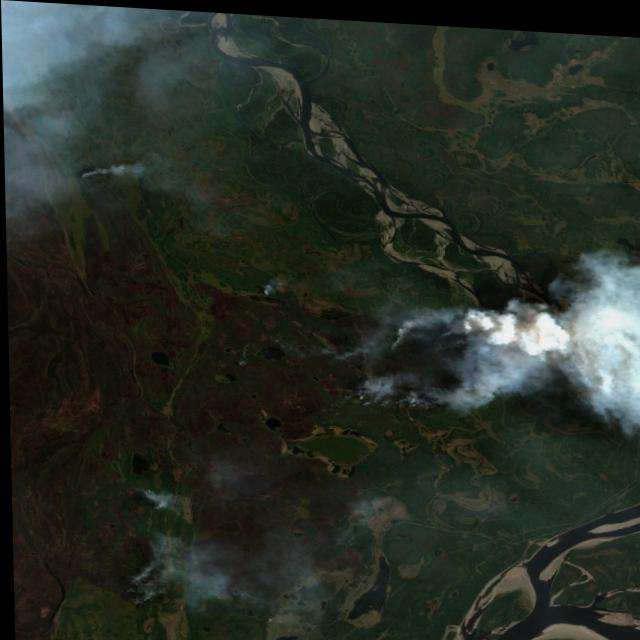fire: (330, 275, 600, 438), (110, 465, 191, 620), (64, 145, 129, 189)
